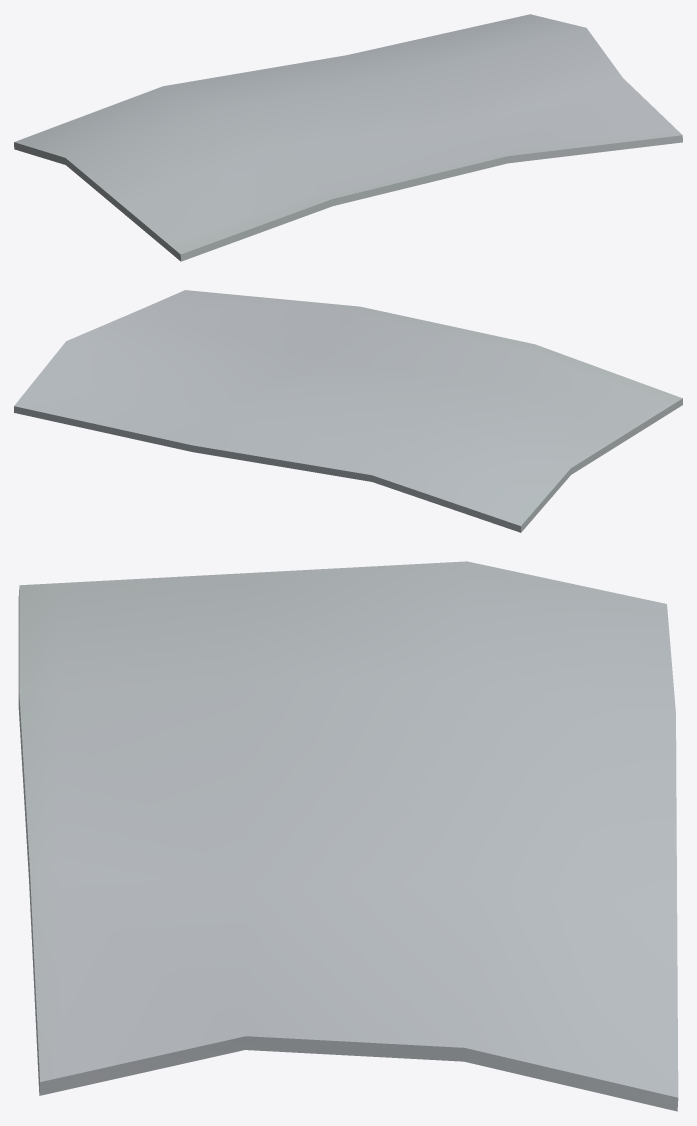
The model's file is Paper01_Alisson3d.fbx.
The picture shows the model from 3 angles, top to bottom: view 1: azimuth 30°, elevation 25°; view 2: azimuth 150°, elevation 25°; view 3: azimuth 270°, elevation 25°; orthographic projection. The views are drawn at different scales.
Visible parts, largest first — view 1: Paper; view 2: Paper; view 3: Paper.
Boxes of the visible parts, left/top/right/bottom form: Paper: left=14, top=14, right=682, bottom=261; Paper: left=14, top=290, right=682, bottom=532; Paper: left=18, top=561, right=678, bottom=1111.
Size of the model in its own units: 120 by 9.42 by 67.9.
